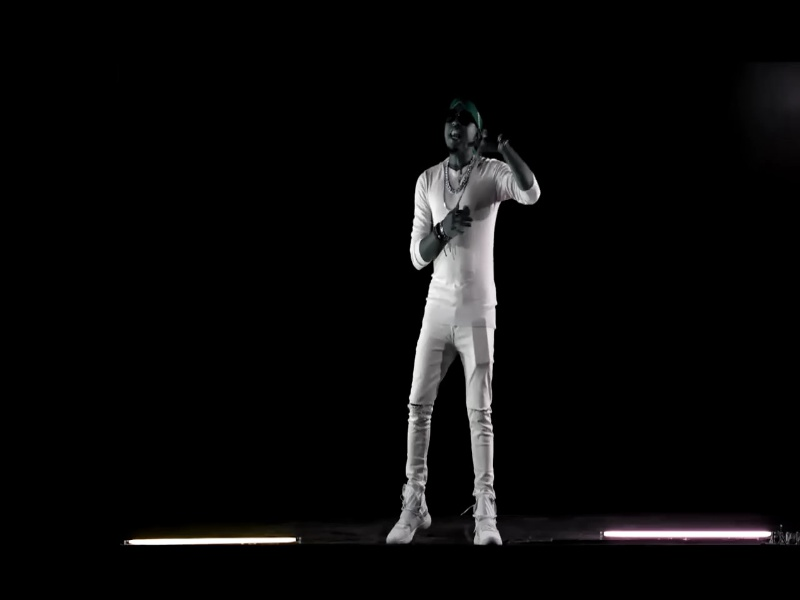TsisyArotava: (439, 91, 495, 173)
